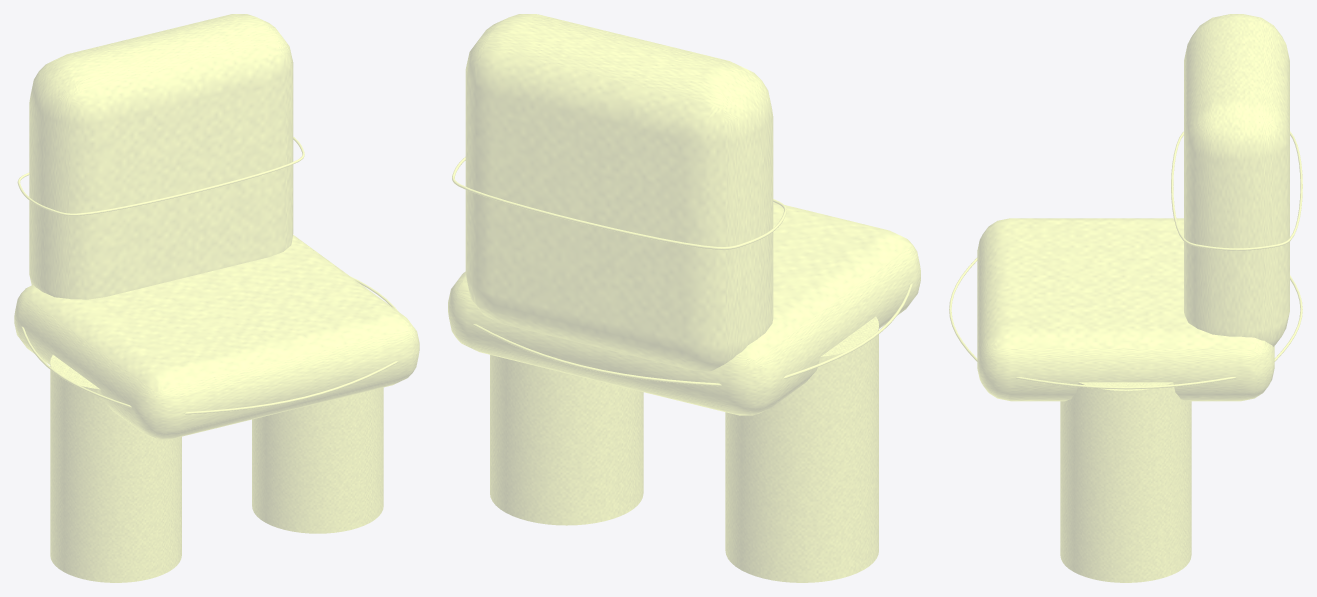
File: ref05_01.glb
3 renders of one model, left to right at view 1: azimuth 30°, elevation 25°; view 2: azimuth 150°, elevation 25°; view 3: azimuth 270°, elevation 25°, orthographic. The views are drawn at different scales.
Parts seen in each view (by area): view 1: ref05_01; view 2: ref05_01; view 3: ref05_01.
Boxes of the visible parts, left/top/right/bottom form: ref05_01: left=14, top=14, right=419, bottom=582; ref05_01: left=448, top=14, right=920, bottom=582; ref05_01: left=949, top=14, right=1302, bottom=582.
Bounding box in the file's own units: 0.7402 × 0.98 × 0.7015.
1 material, 1 textured.
